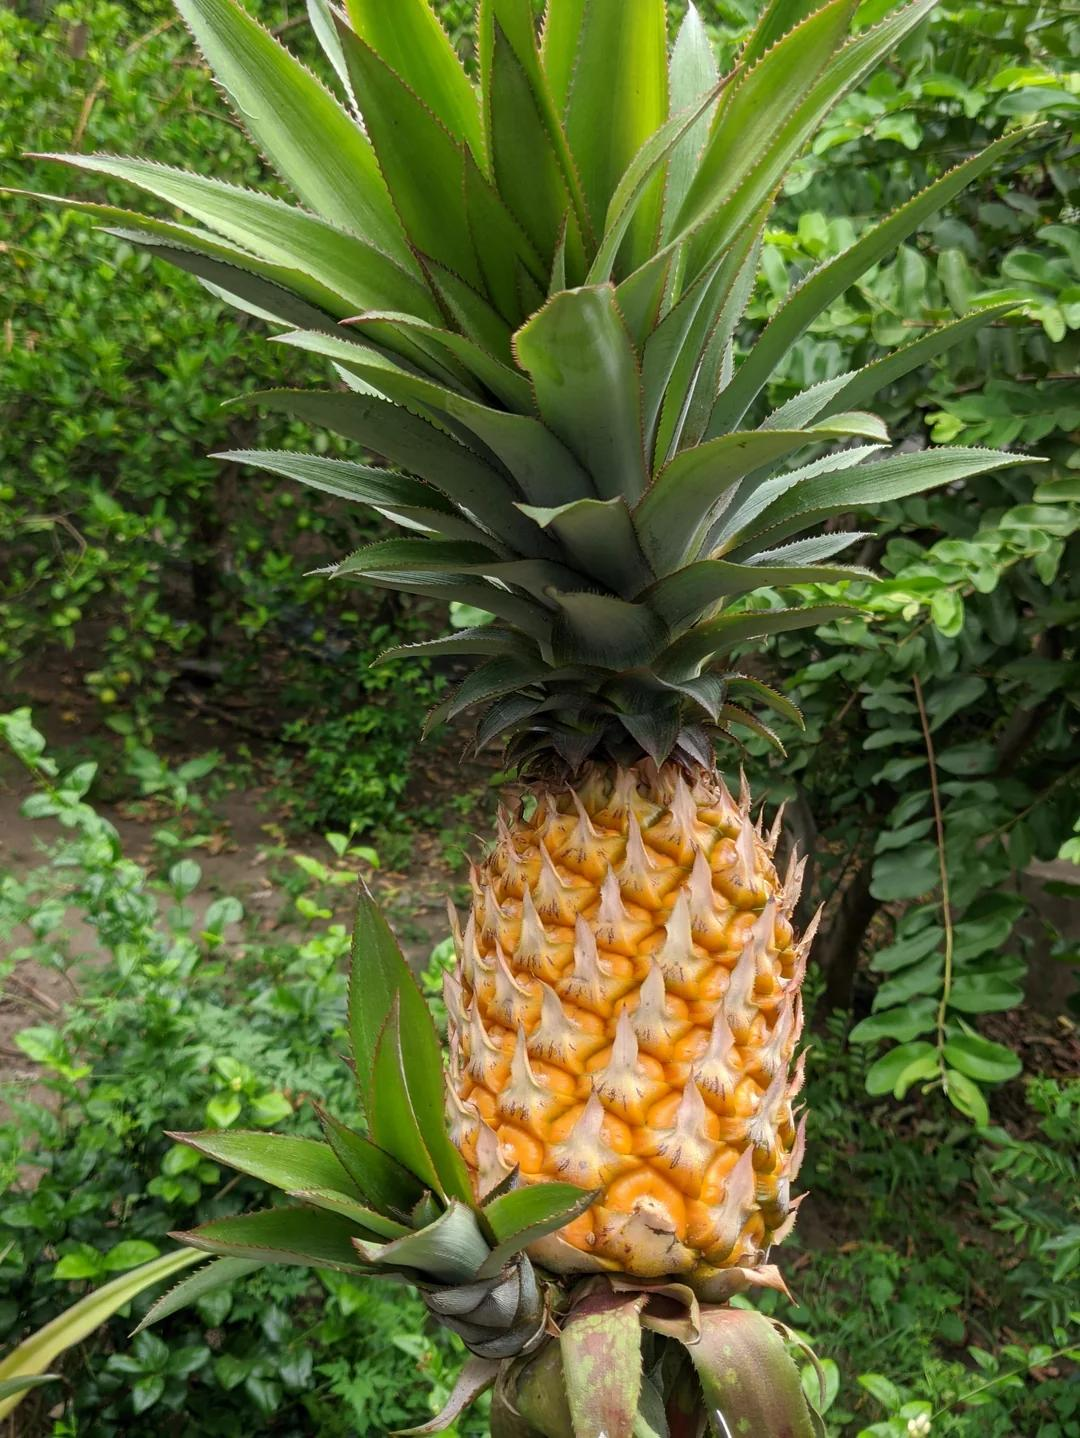pineapple: (81, 0, 1032, 1313)
